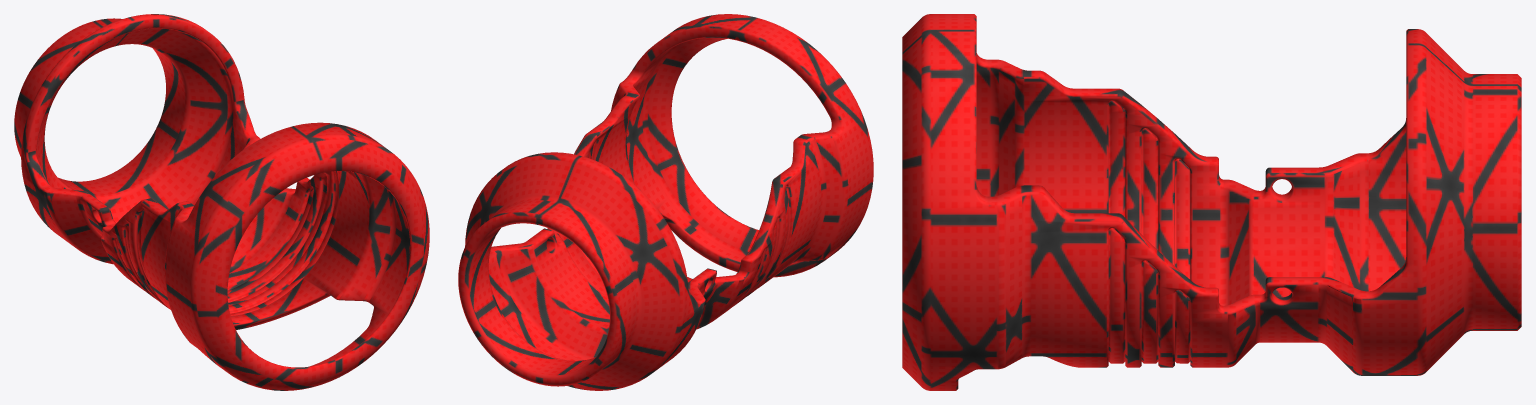
Rendered from PBR - Metallic Roughness.gltf.
The picture shows the model from 3 angles, left to right: view 1: azimuth 30°, elevation 25°; view 2: azimuth 150°, elevation 25°; view 3: azimuth 270°, elevation 25°; orthographic projection. The views are drawn at different scales.
Visible parts, largest first — view 1: tube17:OU_Hard_Surface_37; view 2: tube17:OU_Hard_Surface_37; view 3: tube17:OU_Hard_Surface_37.
Boxes of the visible parts, x1,y1,x2,y2 form: tube17:OU_Hard_Surface_37: [14, 14, 429, 390]; tube17:OU_Hard_Surface_37: [458, 14, 873, 390]; tube17:OU_Hard_Surface_37: [902, 14, 1521, 390].
Size of the model in its own units: 10.91 by 10.91 by 17.93.
1 material, 1 textured.
